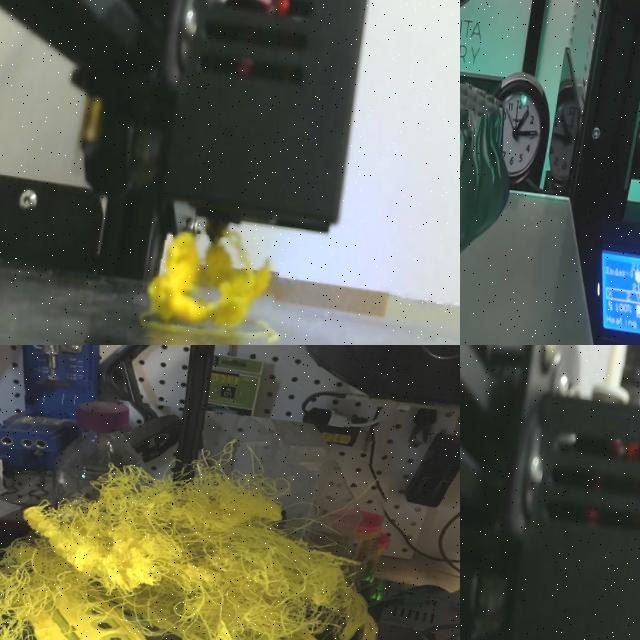spaghetti: (0, 379, 399, 640), (139, 228, 284, 345)
